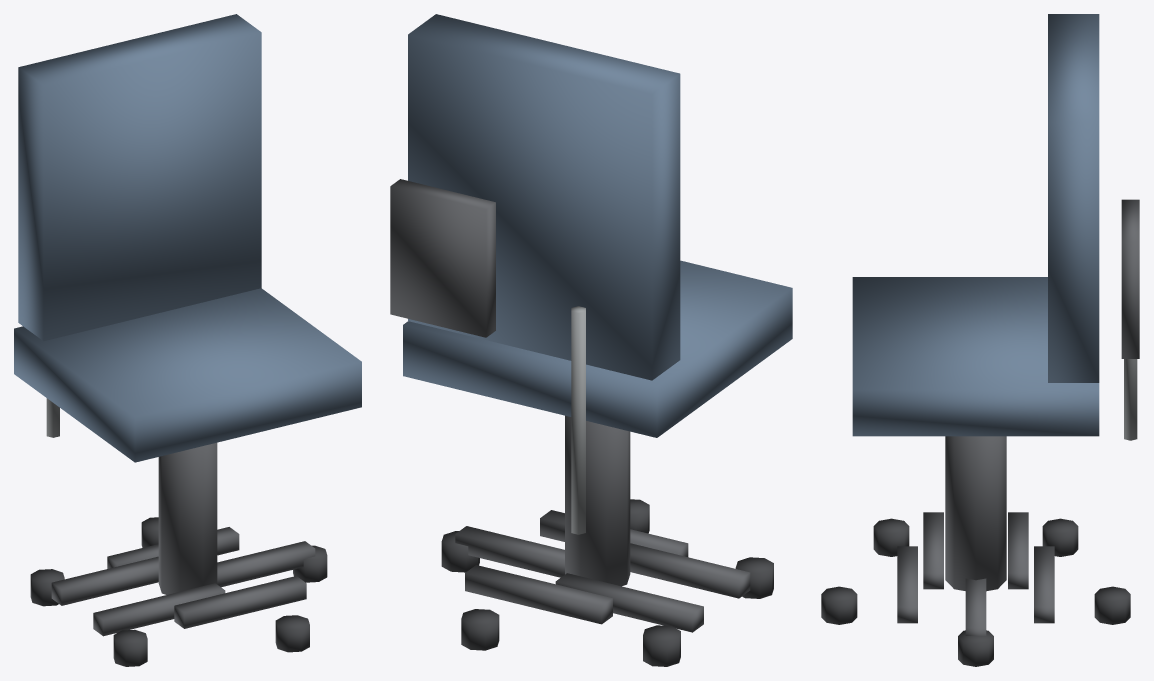
Rendered from office_task_chair__service.glb.
3 renders of one model, left to right at view 1: azimuth 30°, elevation 25°; view 2: azimuth 150°, elevation 25°; view 3: azimuth 270°, elevation 25°, orthographic. The views are drawn at different scales.
Parts seen in each view (by area): view 1: world; view 2: world; view 3: world.
Part boxes in pixels (left/top/right/bottom): world: left=14, top=14, right=361, bottom=666; world: left=390, top=14, right=792, bottom=666; world: left=821, top=14, right=1139, bottom=666.
Size of the model in its own units: 0.5765 by 1.14 by 0.6201.
